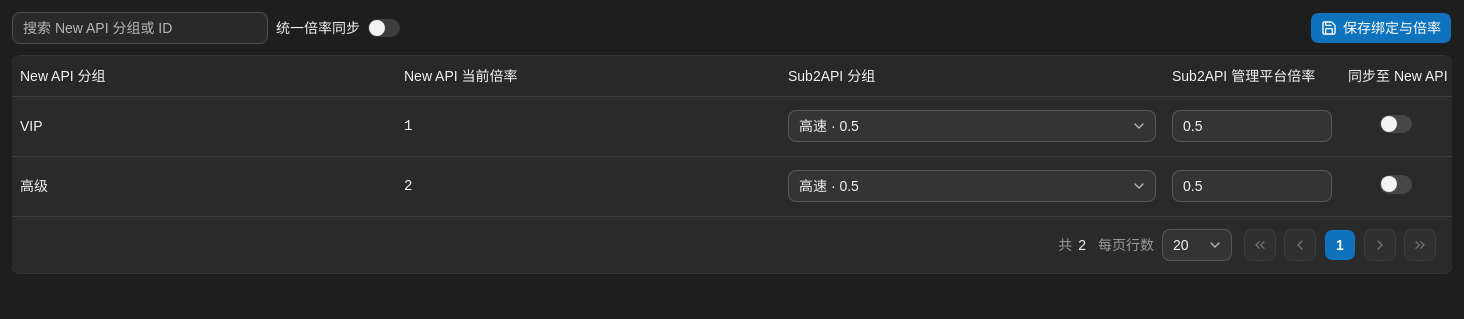
Test: New API 分组绑定倍率 › 同一 Sub2API 分组被多处绑定时统一更新它的倍率
The image size is (1464, 319).
Clear the field named "VIP 的 Sub2API 管理平台倍率" at (1252, 126), box [1172,110,1332,142]
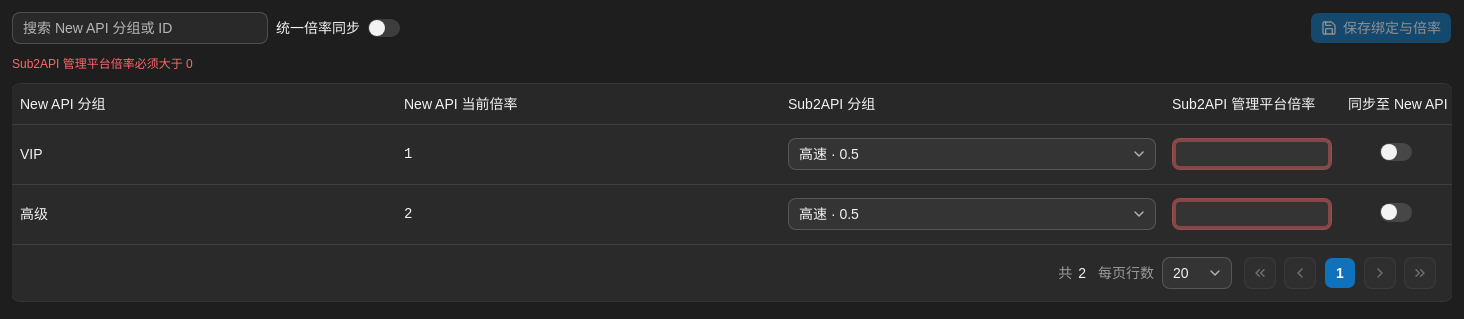
Type "0.8" into the field named "VIP 的 Sub2API 管理平台倍率" at (1252, 154), box [1172,138,1332,170]
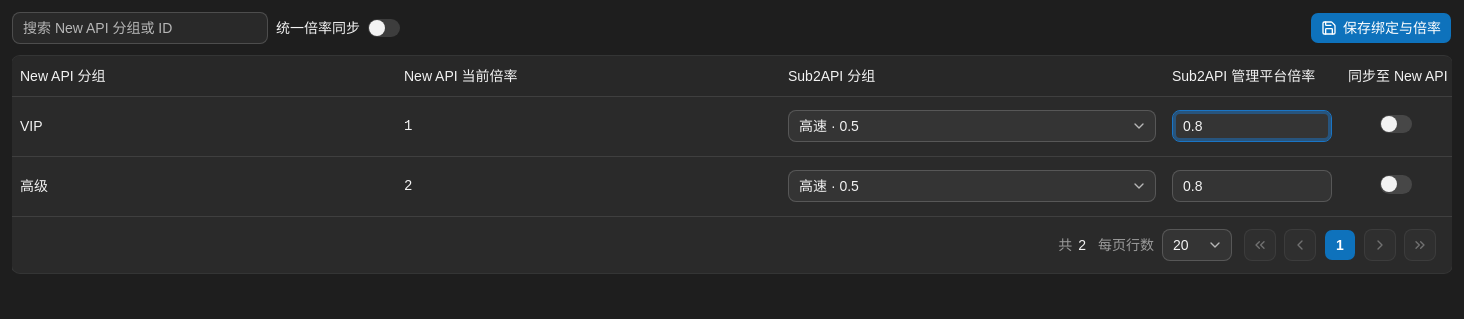
Now the field named "高级 的 Sub2API 管理平台倍率" holds "0.8", box [1172,170,1332,202]
